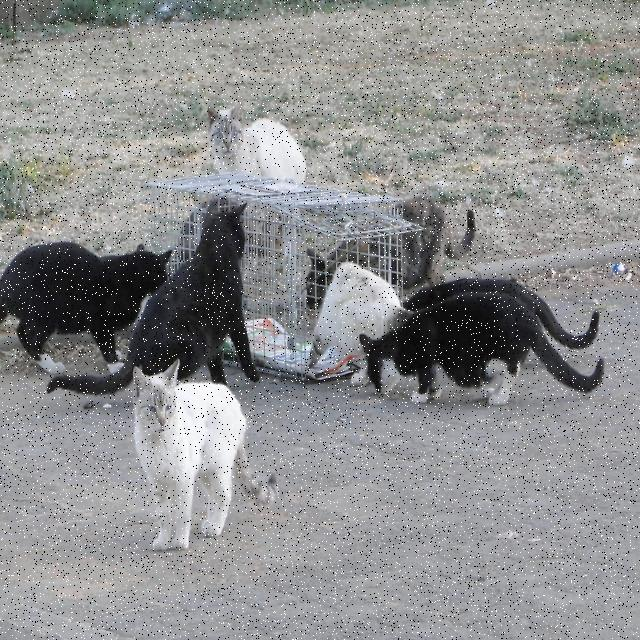cat: (48, 202, 259, 395), (360, 292, 604, 405), (134, 362, 279, 550), (0, 242, 171, 373), (404, 278, 598, 348), (308, 262, 409, 368), (208, 102, 306, 181), (401, 195, 475, 288), (306, 238, 394, 308), (390, 252, 400, 284)
